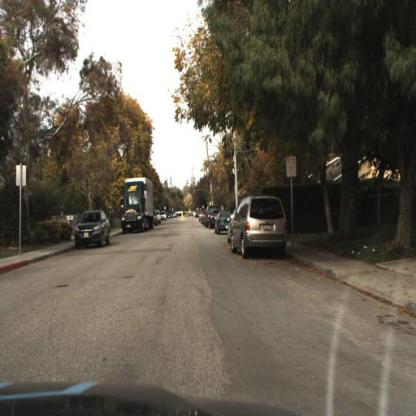car: (229, 192, 289, 261), (232, 197, 293, 261), (74, 210, 114, 250), (74, 210, 113, 246), (214, 209, 231, 235), (228, 209, 238, 245), (206, 204, 214, 229), (209, 210, 218, 231), (160, 211, 168, 223), (153, 210, 158, 228), (157, 211, 162, 227)
truck: (122, 172, 158, 240), (120, 176, 154, 235)
